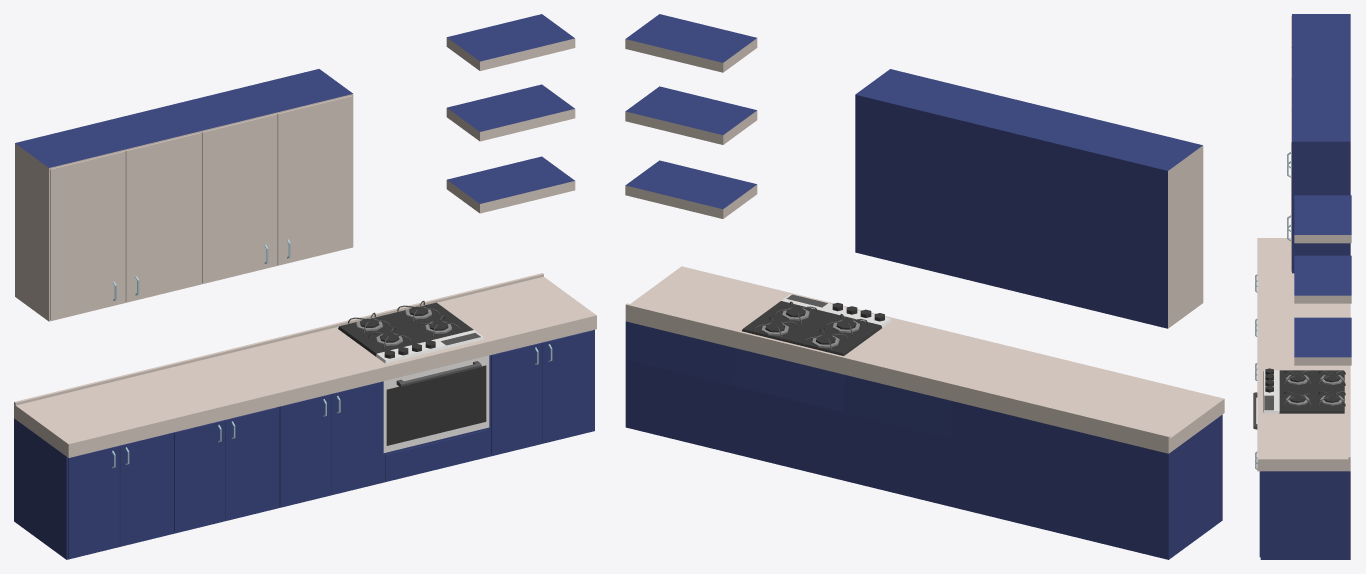
The model's file is Kitchen_set_7.fbx.
3 views of the same model, side by side, from view 1: azimuth 30°, elevation 25°; view 2: azimuth 150°, elevation 25°; view 3: azimuth 270°, elevation 25° (orthographic). The views are drawn at different scales.
Visible parts, largest first — view 1: Kitchen_set_7; view 2: Kitchen_set_7; view 3: Kitchen_set_7.
Boxes of the visible parts, x1,y1,x2,y2 form: Kitchen_set_7: [14, 14, 596, 559]; Kitchen_set_7: [625, 14, 1224, 559]; Kitchen_set_7: [1253, 14, 1351, 559].
Size of the model in its own units: 469 by 87.96 by 321.
